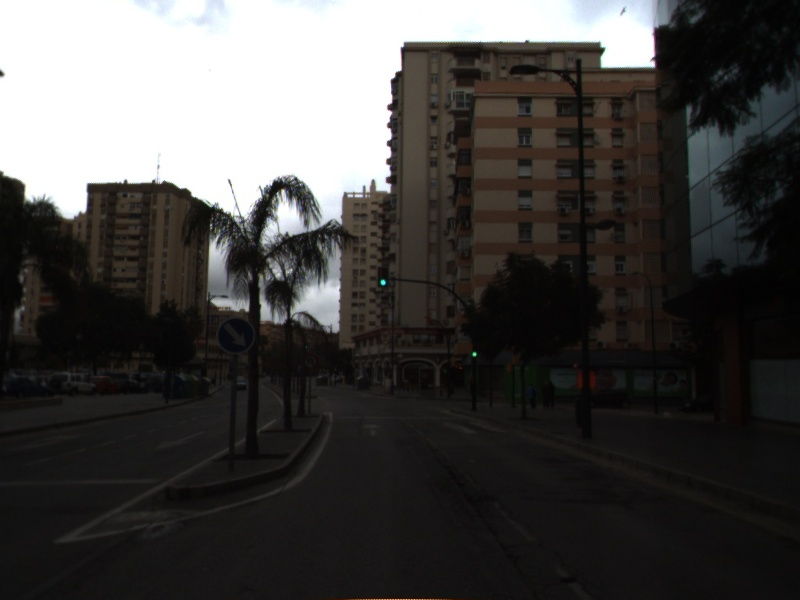STRAIGHT: (360, 421, 384, 439)
